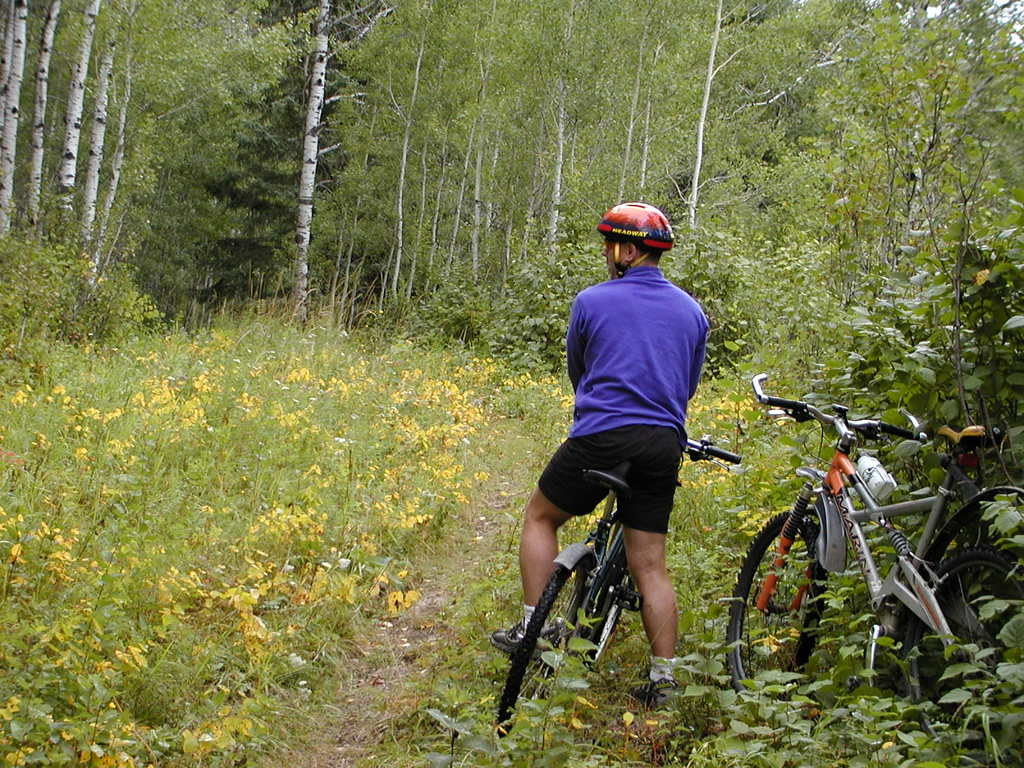Tree: (0, 0, 1023, 327)
